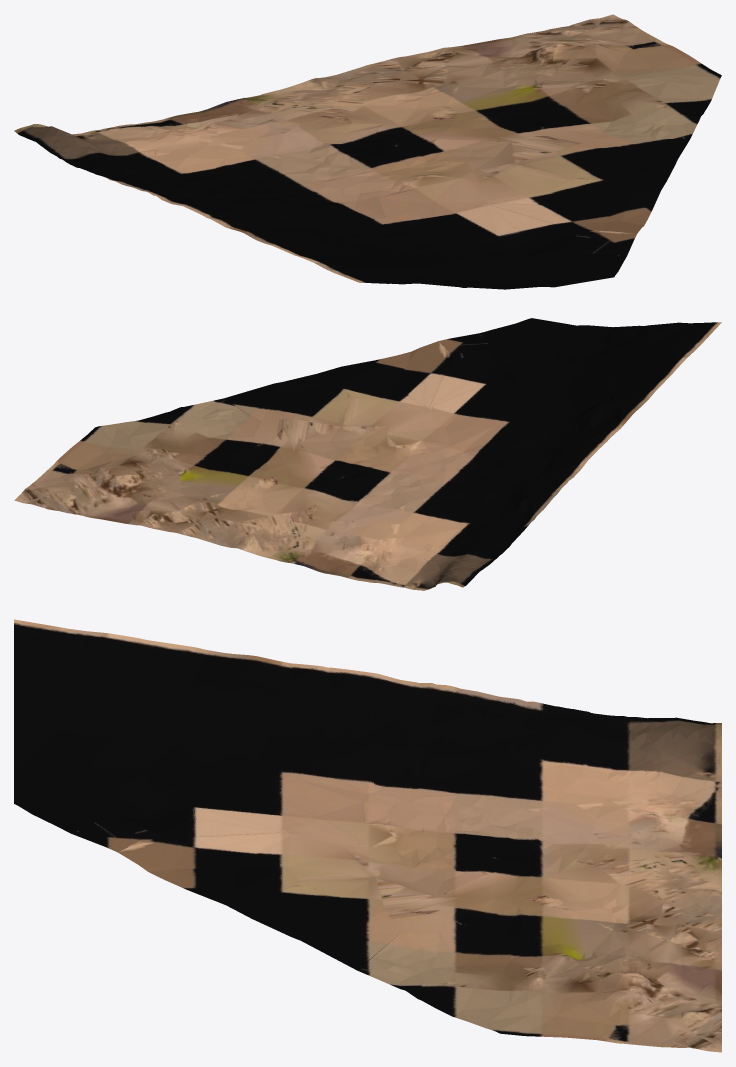
3 views of the same model, one above another, from view 1: azimuth 30°, elevation 25°; view 2: azimuth 150°, elevation 25°; view 3: azimuth 270°, elevation 25° (orthographic). The views are drawn at different scales.
Bounding box in the file's own units: 8.36 × 1.75 × 8.36.
Materials: 2 (2 with a texture image).
